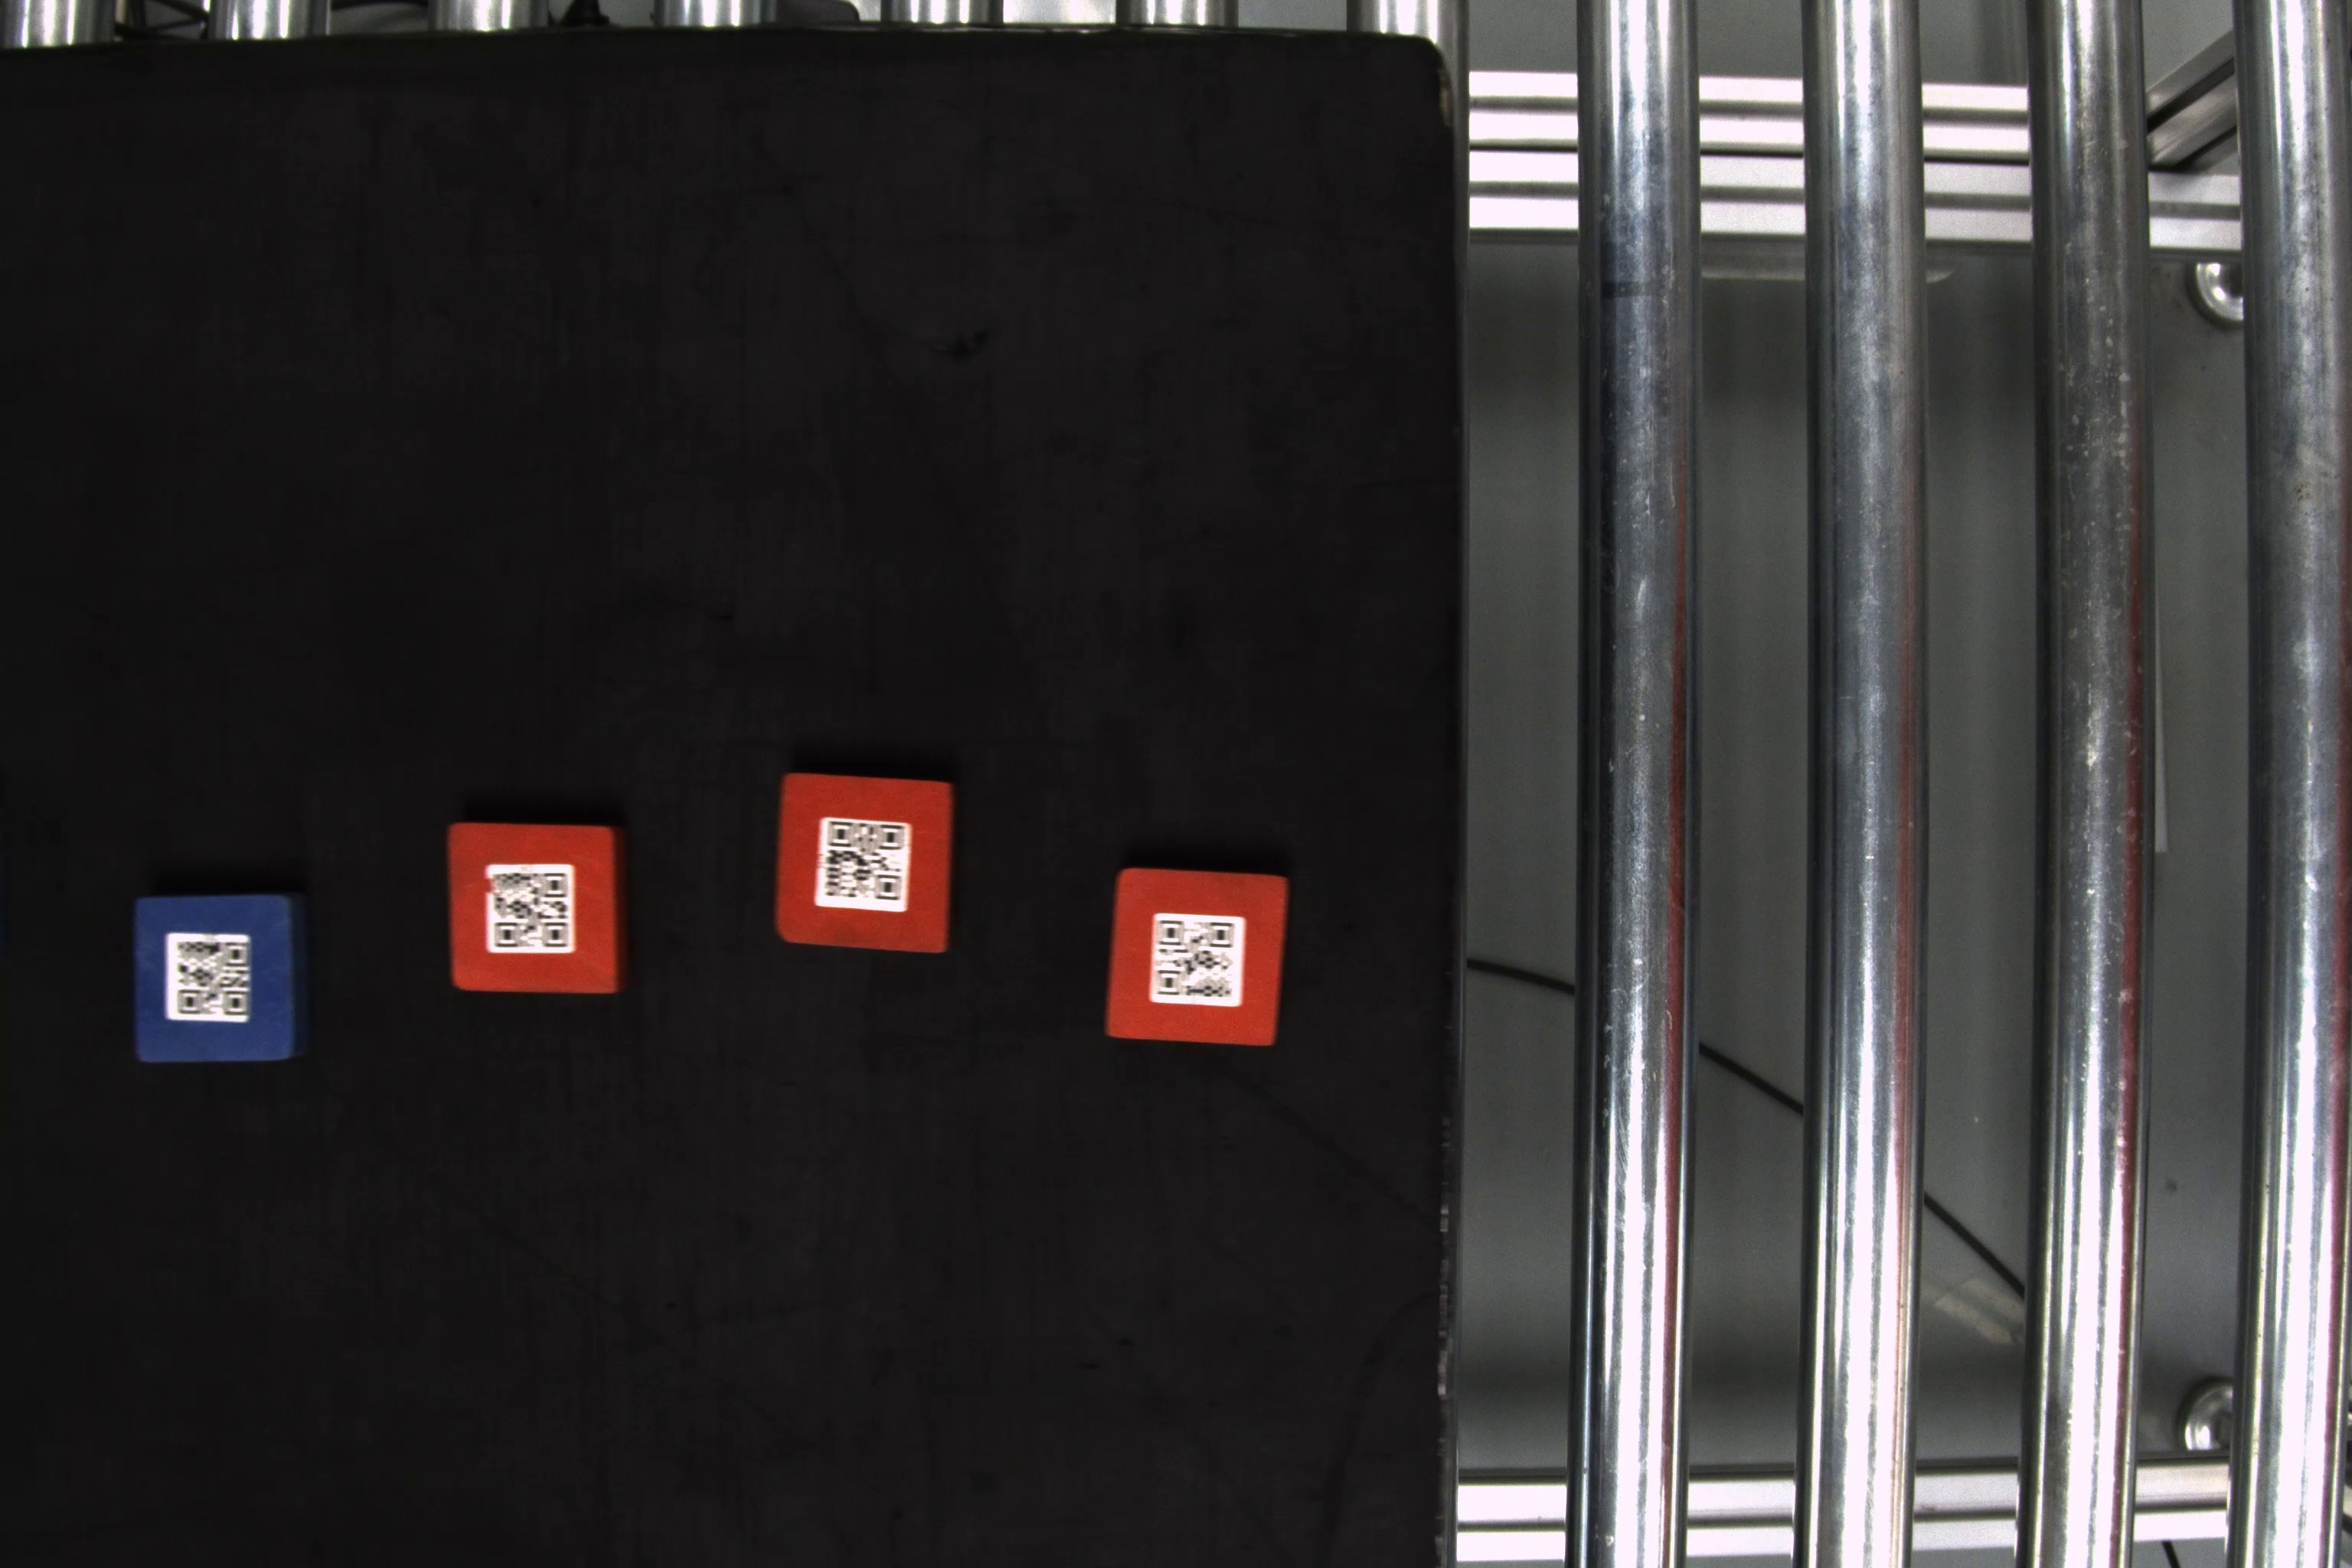wood: (766, 765, 957, 961), (1104, 864, 1295, 1055), (439, 821, 632, 1008), (122, 889, 320, 1066)
